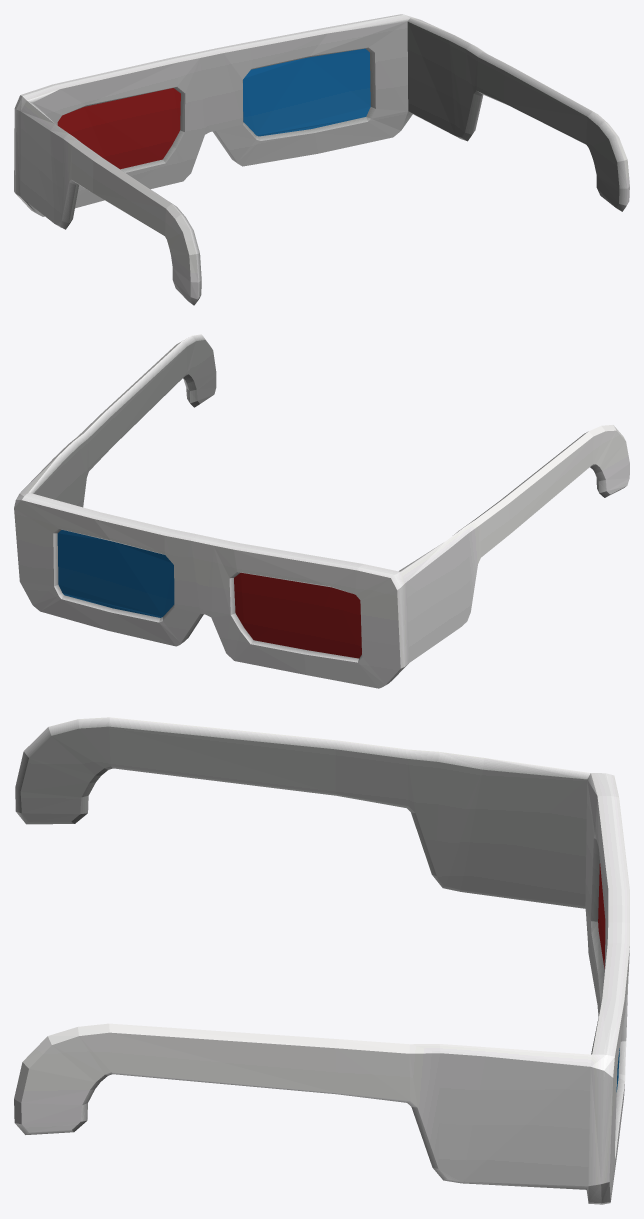
Rendered from CharSkyKid_Face_Anniversary3DGlasses.glb.
3 renders of one model, top to bottom at view 1: azimuth 30°, elevation 25°; view 2: azimuth 150°, elevation 25°; view 3: azimuth 270°, elevation 25°, orthographic. The views are drawn at different scales.
Visible parts, largest first — view 1: CharSkyKid_Face_Anniversary3DGlasses; view 2: CharSkyKid_Face_Anniversary3DGlasses; view 3: CharSkyKid_Face_Anniversary3DGlasses.
Boxes of the visible parts, <box> form: CharSkyKid_Face_Anniversary3DGlasses: <box>14,14,629,305</box>; CharSkyKid_Face_Anniversary3DGlasses: <box>14,334,629,688</box>; CharSkyKid_Face_Anniversary3DGlasses: <box>14,717,629,1204</box>.
Size of the model in its own units: 2.34 by 0.7821 by 2.01.
Materials: 1 (1 with a texture image).
